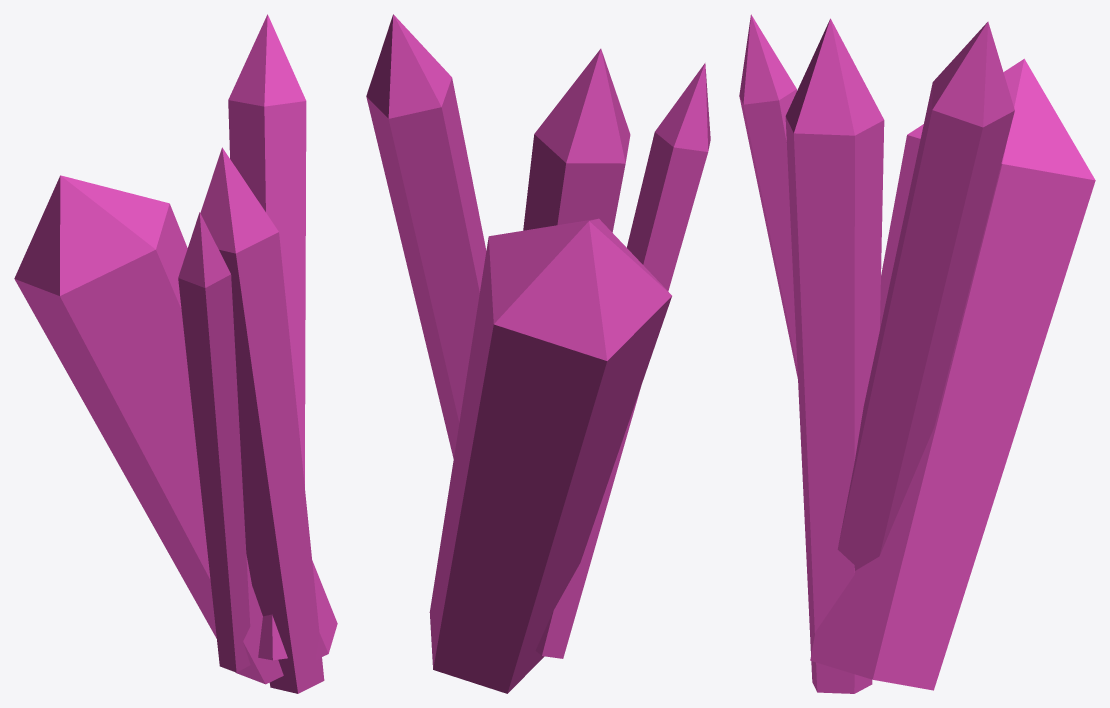
File: small_crystals_6_2.fbx
3 renders of one model, left to right at view 1: azimuth 30°, elevation 25°; view 2: azimuth 150°, elevation 25°; view 3: azimuth 270°, elevation 25°, orthographic. The views are drawn at different scales.
Parts seen in each view (by area): view 1: small crystals.024; view 2: small crystals.024; view 3: small crystals.024.
Part boxes in pixels (x1=…): small crystals.024: x1=14, y1=14, x2=337, y2=693; small crystals.024: x1=366, y1=14, x2=710, y2=693; small crystals.024: x1=739, y1=14, x2=1095, y2=693.
Bounding box in the file's own units: 113 × 261 × 122.
